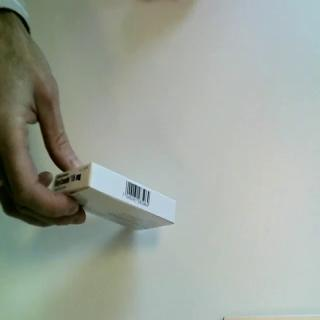oxycontin15mg: (51, 160, 178, 234)
